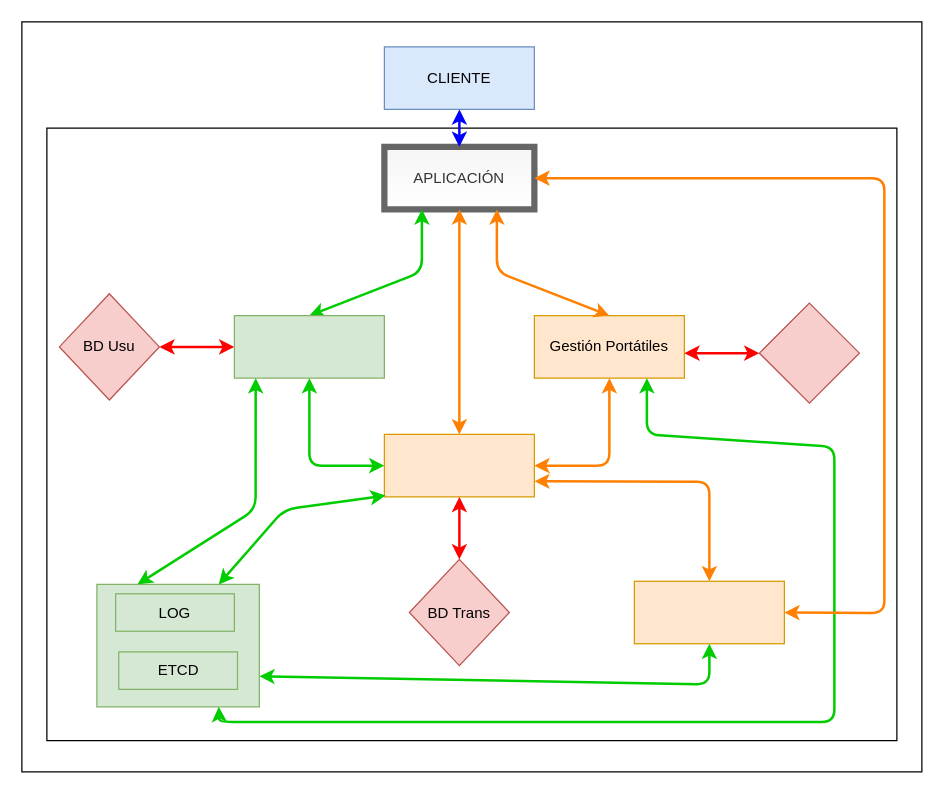
This 944x794 diagram has some shape labels left out. Here are the shapes that lost their labels. From the top down, the box of each, then its label:
(233, 314, 384, 378): Gestión Usuarios
(758, 302, 859, 403): BD Por
(383, 433, 534, 497): Transacciones
(633, 580, 784, 644): Estadísticas
